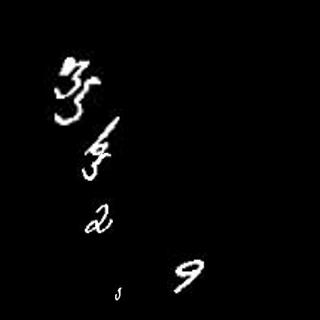five: (50, 79, 104, 128), (78, 155, 112, 184), (111, 283, 126, 304)
nine: (170, 256, 206, 298)
six: (89, 117, 125, 155)
three: (52, 56, 85, 100)
two: (82, 205, 121, 236)
